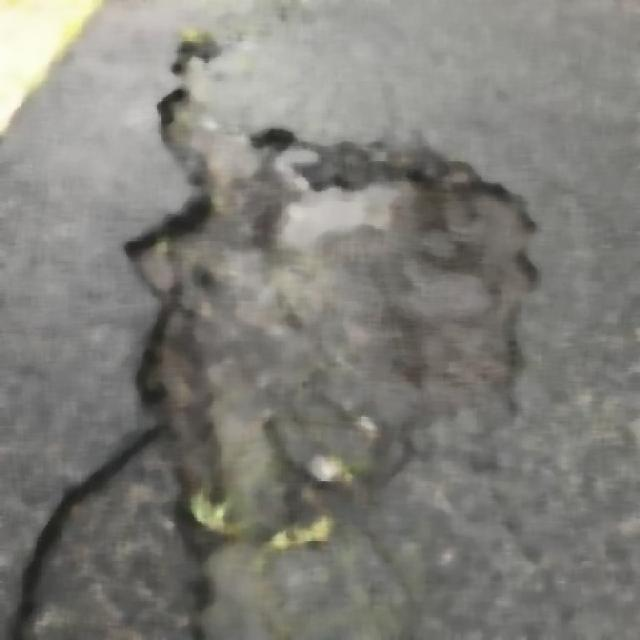Pothole: (158, 48, 499, 494)
